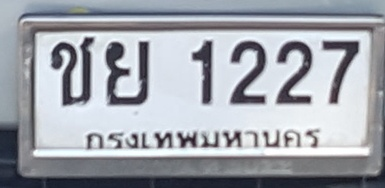txt08: (49, 34, 97, 107)
txt29: (103, 37, 153, 108)
